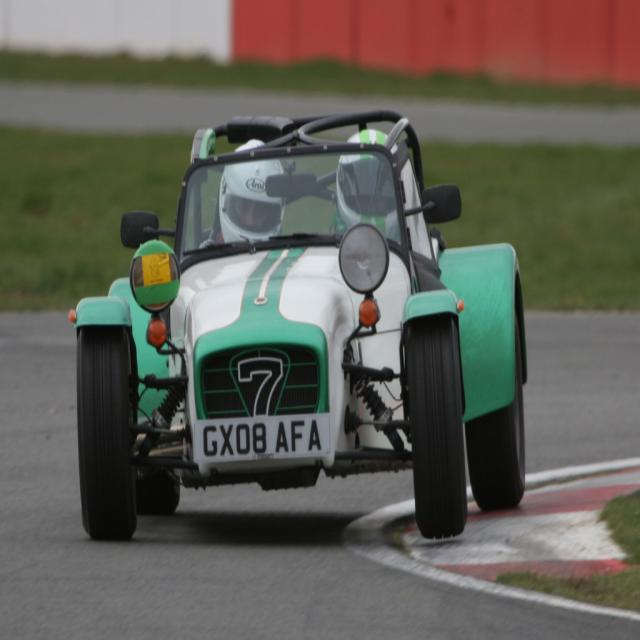car: (64, 95, 523, 541)
